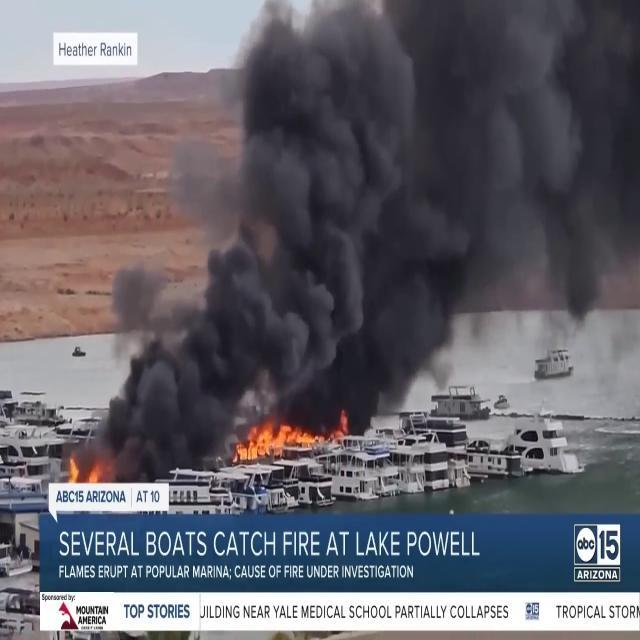Fire: (234, 414, 330, 462), (63, 450, 111, 490)
Smoke: (95, 0, 640, 429)
